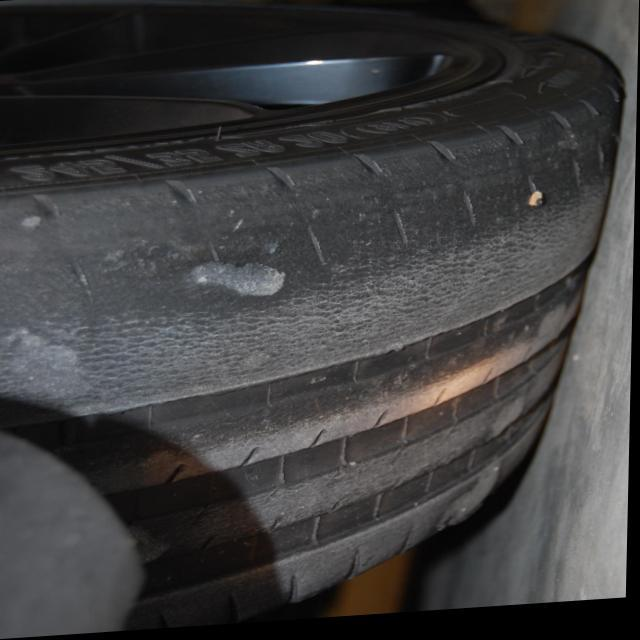Flat spots: (0, 180, 500, 352)
